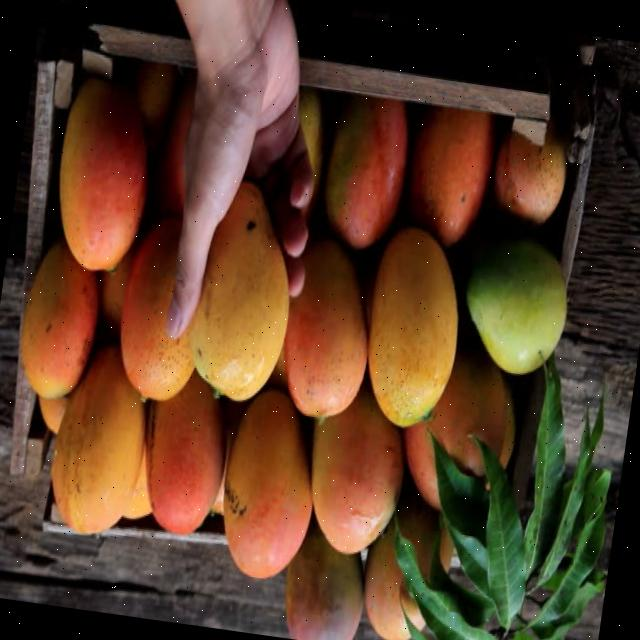mango: (187, 180, 289, 399), (367, 228, 458, 426), (50, 344, 144, 533), (223, 390, 312, 576), (60, 78, 146, 270), (404, 354, 514, 504), (311, 385, 403, 553), (283, 241, 367, 417), (120, 217, 194, 399), (466, 238, 566, 370), (145, 371, 224, 534), (324, 95, 407, 248), (20, 239, 98, 399), (411, 106, 493, 246), (284, 526, 363, 640), (494, 120, 565, 223)
